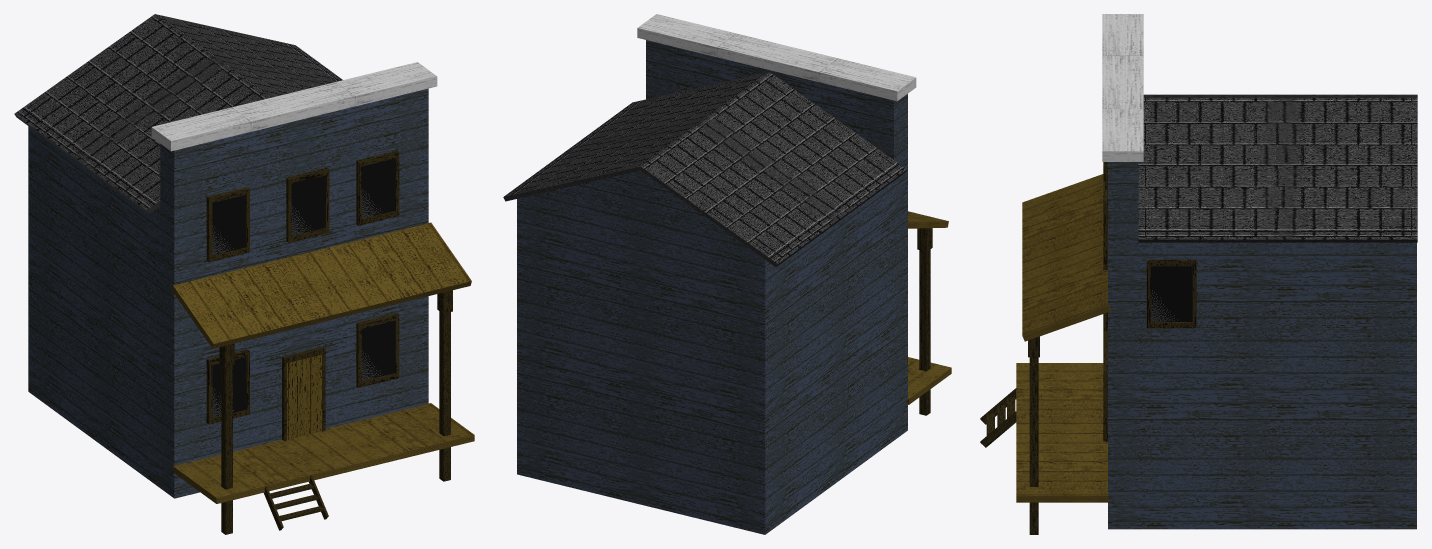
File: WildWestBuilding3 .fbx
3 views of the same model, side by side, from view 1: azimuth 30°, elevation 25°; view 2: azimuth 150°, elevation 25°; view 3: azimuth 270°, elevation 25° (orthographic). The views are drawn at different scales.
Parts seen in each view (by area): view 1: Cube, Cube.001, Cube.006, Cube.008, Cube.007, Cube.005, Cube.002, Cube.009, Cube.003, Cube.004; view 2: Cube, Cube.006, Cube.007, Cube.002, Cube.001; view 3: Cube, Cube.006, Cube.001, Cube.007, Cube.005, Cube.008, Cube.002, Cube.003.
Part boxes in pixels (x1,y1,x2,y2): Cube: [28, 88, 428, 498]; Cube.001: [172, 222, 474, 503]; Cube.006: [14, 14, 342, 213]; Cube.008: [212, 158, 394, 417]; Cube.007: [151, 62, 437, 151]; Cube.005: [206, 150, 399, 424]; Cube.002: [219, 290, 452, 534]; Cube.009: [287, 354, 322, 439]; Cube.003: [264, 475, 328, 530]; Cube.004: [282, 346, 325, 440]; Cube: [517, 40, 907, 534]; Cube.006: [503, 72, 907, 267]; Cube.007: [637, 14, 916, 101]; Cube.002: [917, 228, 932, 415]; Cube.001: [906, 211, 951, 404]; Cube: [1108, 162, 1416, 529]; Cube.006: [1138, 94, 1417, 242]; Cube.001: [1016, 174, 1110, 502]; Cube.007: [1102, 14, 1143, 161]; Cube.005: [1103, 162, 1196, 441]; Cube.008: [1151, 266, 1192, 321]; Cube.002: [1028, 336, 1039, 534]; Cube.003: [980, 388, 1016, 447].
Bounding box in the file's own units: 1742 × 2209 × 2221.
6 materials, 6 textured.
